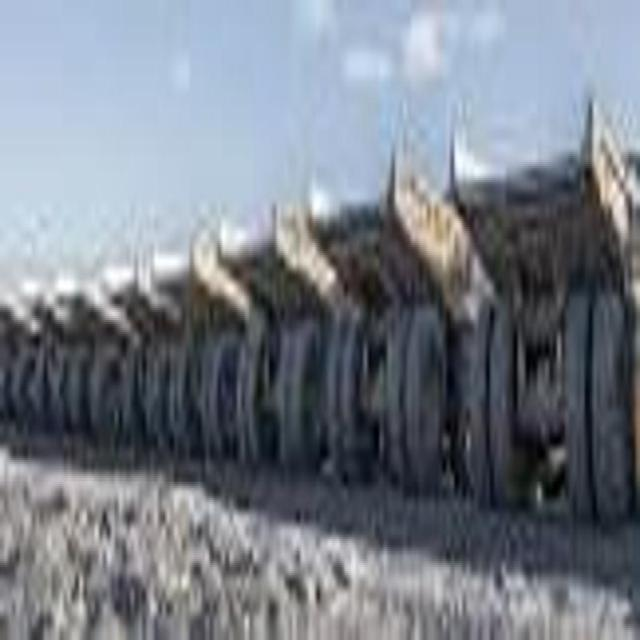dump_truck: (449, 86, 640, 558), (317, 151, 459, 479), (228, 174, 328, 462)
